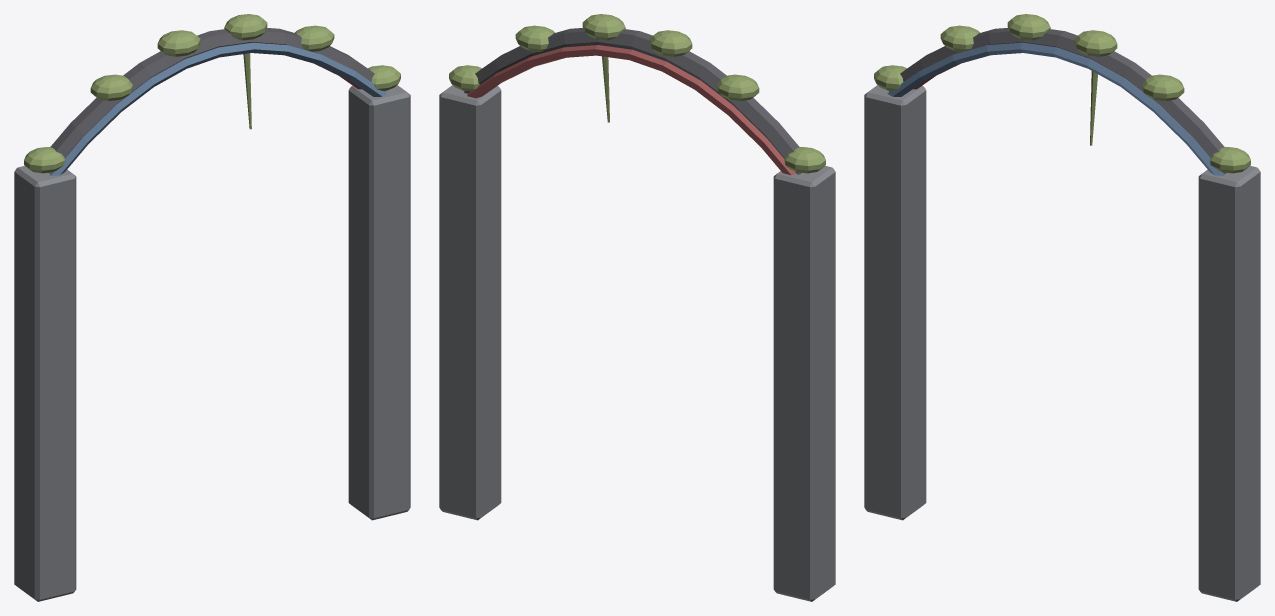
File: CableArch.fbx
The picture shows the model from 3 angles, left to right: view 1: azimuth 30°, elevation 25°; view 2: azimuth 150°, elevation 25°; view 3: azimuth 330°, elevation 25°; orthographic projection.
Visible parts, largest first — view 1: Prop_CableArch; view 2: Prop_CableArch; view 3: Prop_CableArch.
Part boxes in pixels (<box>): Prop_CableArch: <box>14,14,410,601</box>; Prop_CableArch: <box>439,14,835,601</box>; Prop_CableArch: <box>864,14,1260,601</box>.
Bounding box in the file's own units: 2.25 × 3 × 0.25.
